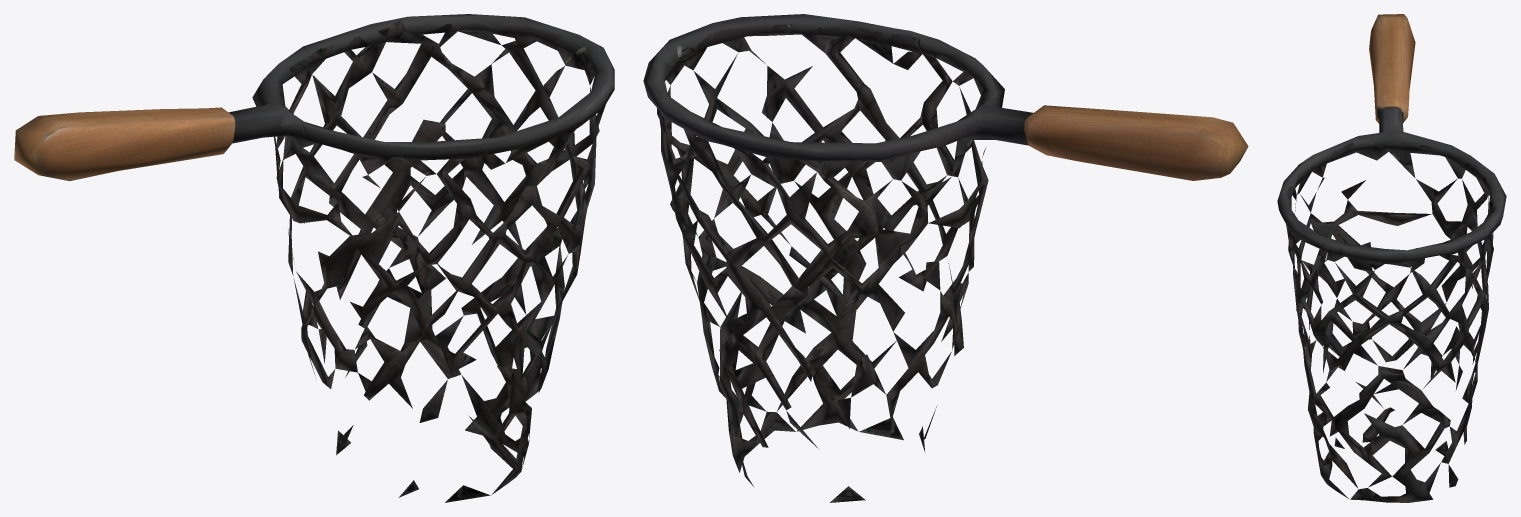
File: Butterfly_Catcher_0811153958_texture.fbx
3 views of the same model, side by side, from view 1: azimuth 30°, elevation 25°; view 2: azimuth 150°, elevation 25°; view 3: azimuth 270°, elevation 25° (orthographic). The views are drawn at different scales.
Visible parts, largest first — view 1: Mesh1.0; view 2: Mesh1.0; view 3: Mesh1.0.
Boxes of the visible parts, x1,y1,x2,y2 form: Mesh1.0: [14, 14, 614, 502]; Mesh1.0: [643, 14, 1248, 502]; Mesh1.0: [1277, 14, 1506, 502].
Bounding box in the file's own units: 199 × 145 × 92.91.
1 material, 1 textured.
